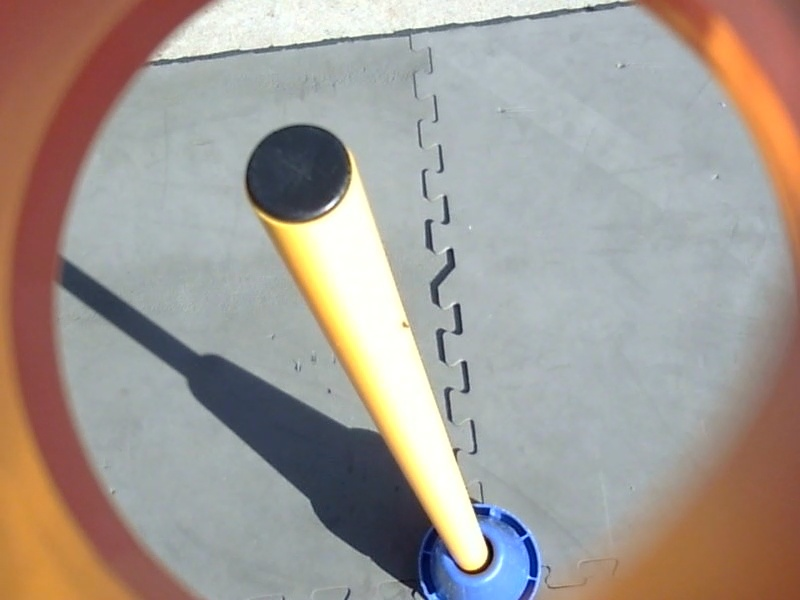tip: (238, 118, 359, 231)
